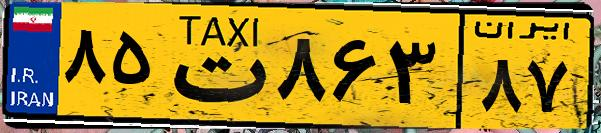3: (385, 28, 445, 110)
5: (110, 28, 158, 98)
6: (330, 28, 385, 110)
7: (525, 38, 570, 115)
8: (270, 28, 330, 110), (57, 26, 110, 100), (475, 38, 525, 113)
ت: (158, 12, 270, 120)
